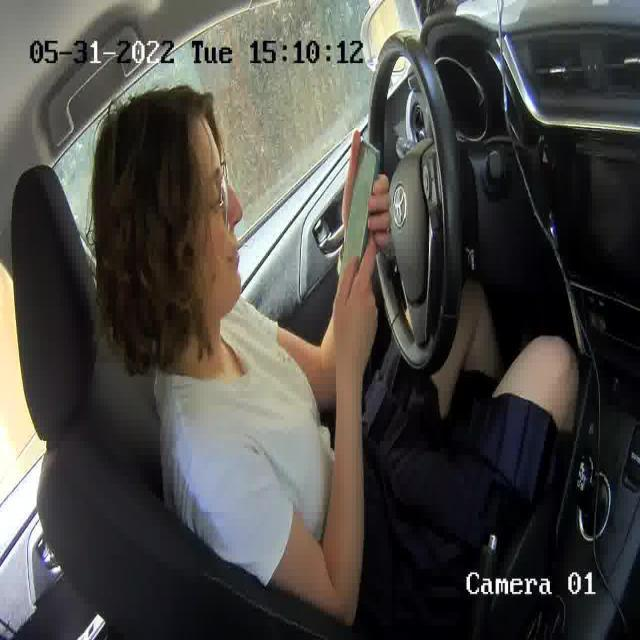Eye-Close: (210, 189, 227, 207)
Inattentive: (89, 83, 244, 333)
Normal: (219, 242, 241, 265)
